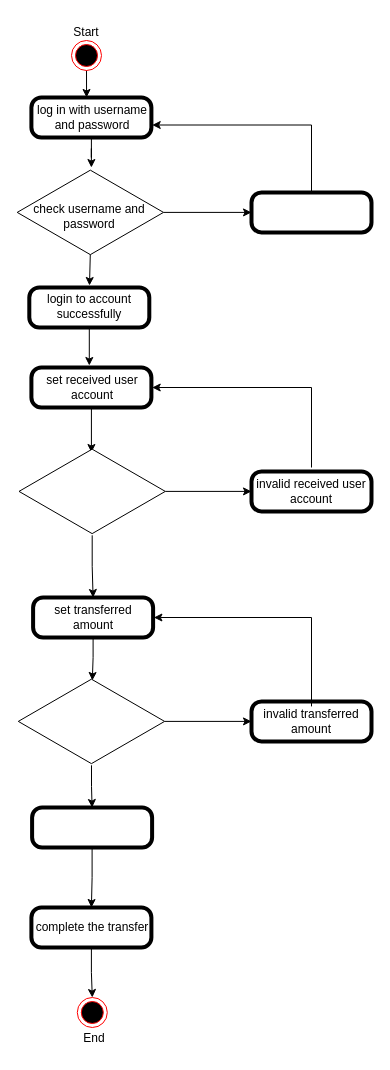
Image size: 390x1070. Some labels were removed from this diagram. Here are the shapes that lost their labels. From the top down, the box of each, then its label:
(250, 191, 372, 232): invalid username and password
(18, 446, 165, 535): check received user account
(17, 676, 165, 765): check transferred amount
(31, 806, 152, 848): process the transfer
